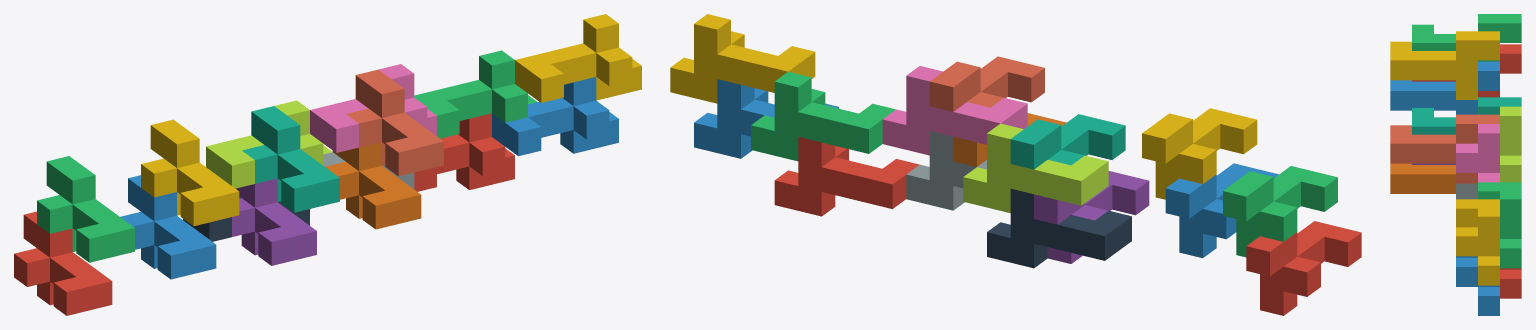
Rendered from tiling.obj.
The picture shows the model from 3 angles, left to right: view 1: azimuth 30°, elevation 25°; view 2: azimuth 150°, elevation 25°; view 3: azimuth 270°, elevation 25°; orthographic projection. The views are drawn at different scales.
Visible parts, largest first — view 1: copy_2_domain_8, copy_1_domain_4, copy_1_domain_3, copy_2_domain_6, copy_1_domain_1, copy_1_domain_7, copy_1_domain_8, copy_1_domain_2, copy_2_domain_7, copy_1_domain_6, copy_1_domain_5, copy_2_domain_5 (+3 smaller); view 2: copy_2_domain_7, copy_2_domain_5, copy_2_domain_8, copy_2_domain_3, copy_1_domain_1, copy_2_domain_1, copy_1_domain_4, copy_1_domain_3, copy_2_domain_4, copy_1_domain_7, copy_1_domain_8, copy_1_domain_2 (+4 smaller); view 3: copy_1_domain_4, copy_1_domain_8, copy_2_domain_8, copy_1_domain_2, copy_2_domain_7, copy_1_domain_3, copy_1_domain_6, copy_2_domain_4, copy_2_domain_3, copy_1_domain_7, copy_2_domain_6, copy_1_domain_1 (+2 smaller).
Boxes of the visible parts, bbox=[...] form: copy_2_domain_8: bbox=[515, 14, 641, 102]; copy_1_domain_4: bbox=[141, 119, 239, 226]; copy_1_domain_3: bbox=[37, 156, 134, 262]; copy_2_domain_6: bbox=[492, 77, 618, 156]; copy_1_domain_1: bbox=[14, 211, 112, 315]; copy_1_domain_7: bbox=[242, 106, 339, 212]; copy_1_domain_8: bbox=[346, 69, 443, 176]; copy_1_domain_2: bbox=[120, 175, 216, 279]; copy_2_domain_7: bbox=[414, 50, 537, 138]; copy_1_domain_6: bbox=[325, 142, 421, 229]; copy_1_domain_5: bbox=[232, 178, 316, 265]; copy_2_domain_5: bbox=[414, 113, 514, 191]; copy_2_domain_7: bbox=[751, 71, 895, 161]; copy_2_domain_5: bbox=[774, 137, 919, 216]; copy_2_domain_8: bbox=[670, 14, 815, 103]; copy_2_domain_3: bbox=[963, 123, 1108, 213]; copy_1_domain_1: bbox=[1246, 221, 1361, 315]; copy_2_domain_1: bbox=[987, 188, 1131, 268]; copy_1_domain_4: bbox=[1142, 108, 1257, 199]; copy_1_domain_3: bbox=[1223, 166, 1337, 257]; copy_2_domain_4: bbox=[882, 66, 1027, 155]; copy_1_domain_7: bbox=[1010, 114, 1125, 169]; copy_1_domain_8: bbox=[929, 56, 1044, 111]; copy_1_domain_2: bbox=[1165, 163, 1278, 258]; copy_1_domain_4: bbox=[1390, 31, 1499, 99]; copy_1_domain_8: bbox=[1390, 114, 1499, 183]; copy_2_domain_8: bbox=[1456, 199, 1499, 285]; copy_1_domain_2: bbox=[1390, 61, 1499, 114]; copy_2_domain_7: bbox=[1478, 182, 1521, 268]; copy_1_domain_3: bbox=[1412, 14, 1521, 61]; copy_1_domain_6: bbox=[1390, 163, 1455, 193]; copy_2_domain_4: bbox=[1456, 124, 1499, 182]; copy_2_domain_3: bbox=[1500, 106, 1521, 182]; copy_1_domain_7: bbox=[1412, 97, 1521, 134]; copy_2_domain_6: bbox=[1456, 256, 1499, 315]; copy_1_domain_1: bbox=[1412, 44, 1521, 97].
Size of the model in its own units: 27 by 6 by 6.
